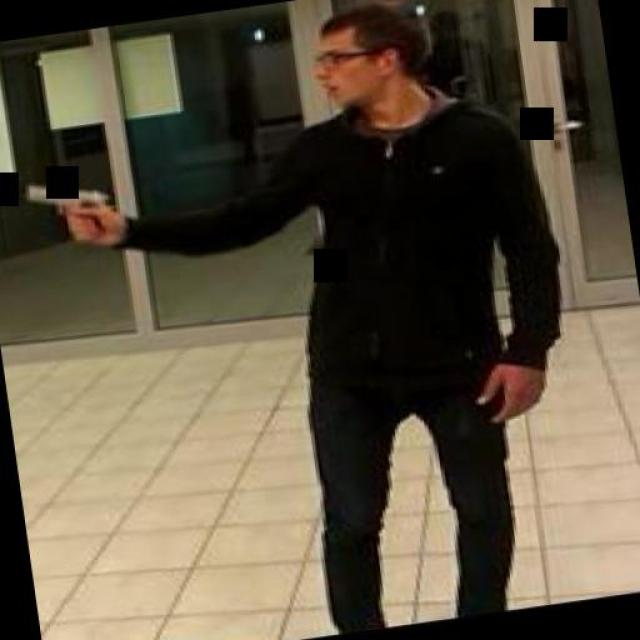gun: (15, 168, 121, 254)
